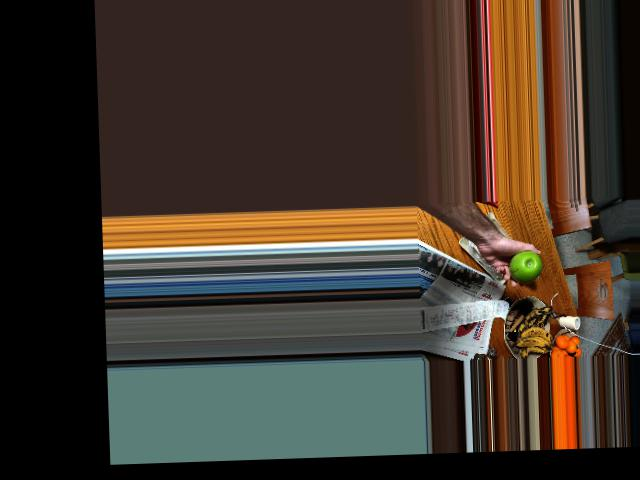apple: (507, 247, 544, 282)
